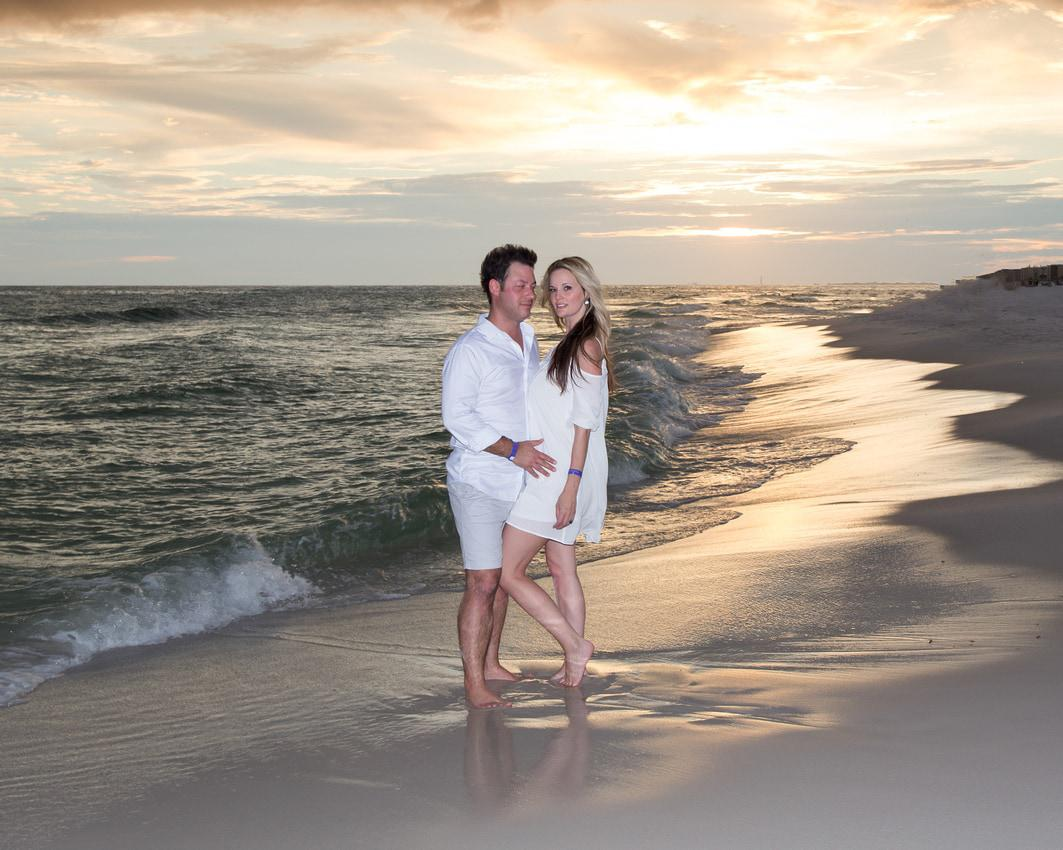without_mask: (462, 223, 542, 345), (541, 242, 628, 343)
